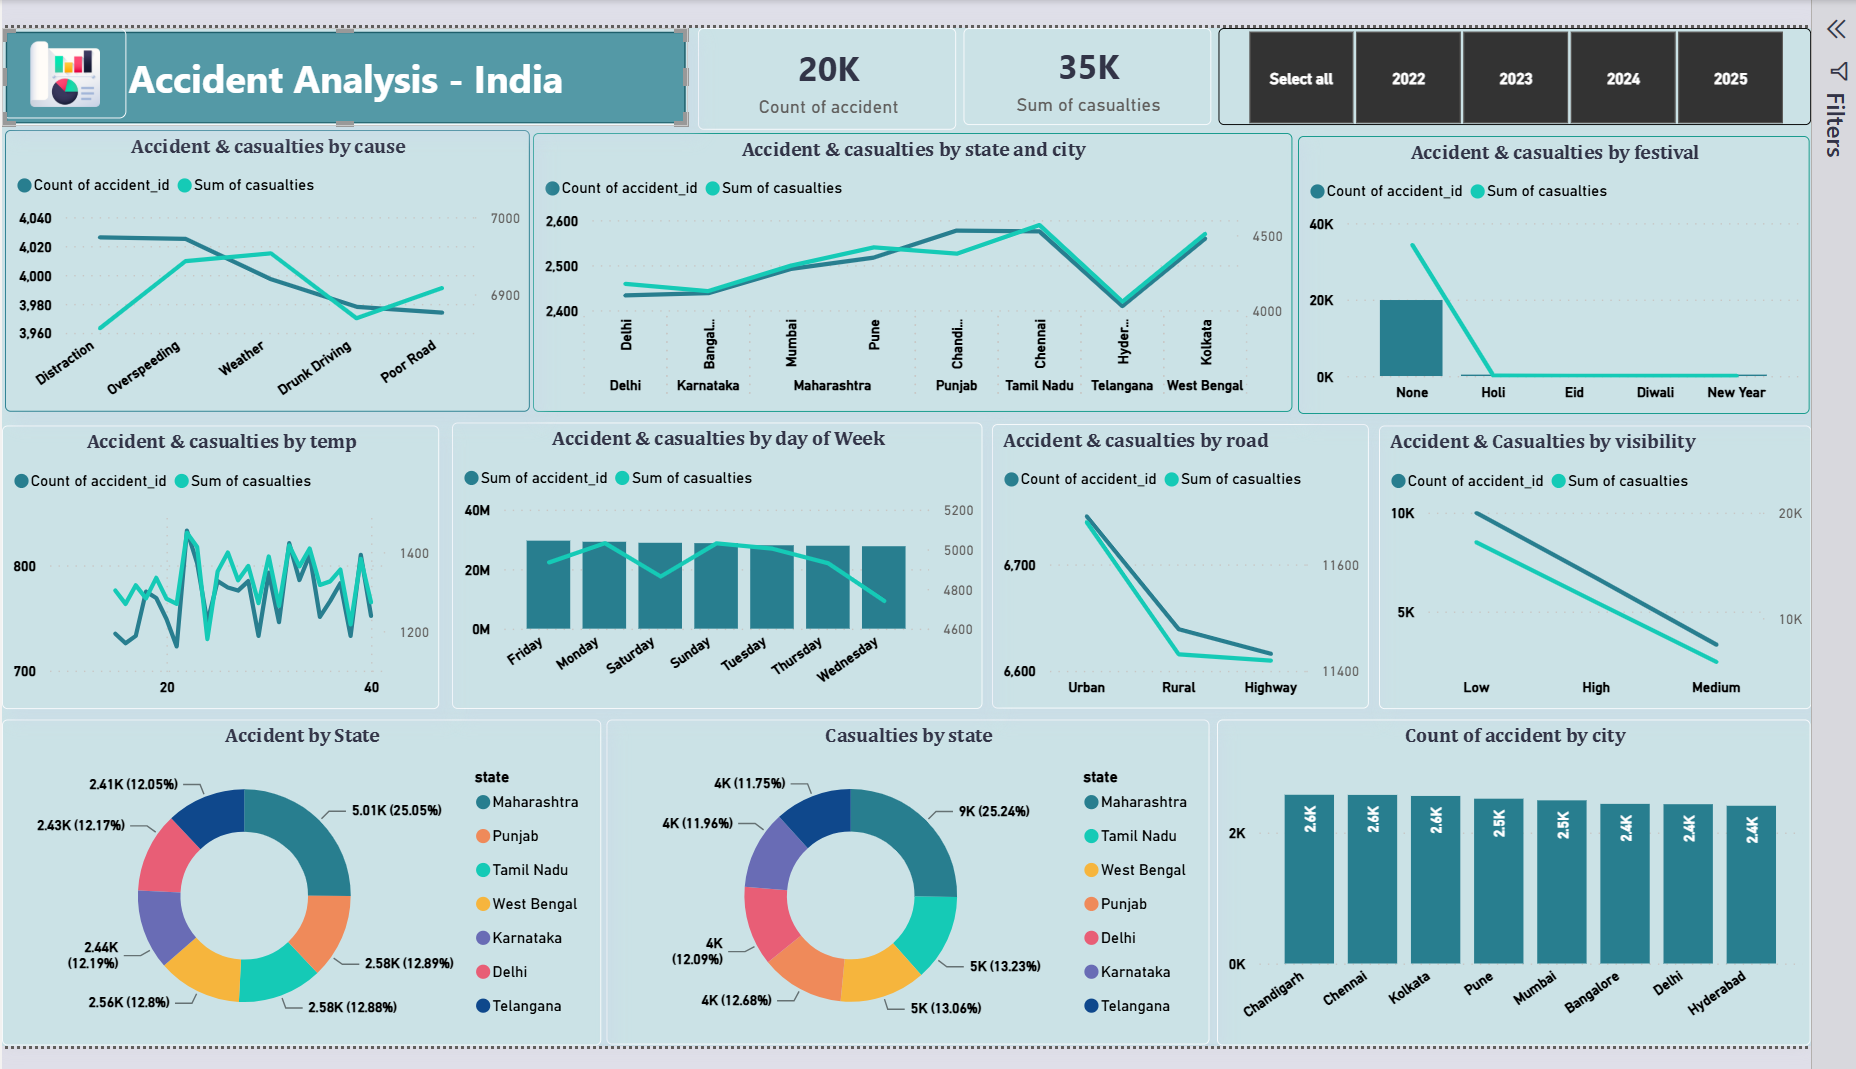

Layout of this report page (visuals, bound fields, positions):
{"tool":"powerbi","page":{"name":"DASHBOARD","canvas":[1280,720],"ordinal":0},"visuals":[{"type":"shape","box":[0,0,485,69],"z":0,"group":"g1"},{"type":"donutChart","title":"Casualties by state","fields":{"Category":["indian_roads_dataset.state"],"Y":["Sum(indian_roads_dataset.casualties)"]},"box":[427.7,489.3,426.7,230.3],"z":0},{"type":"image","box":[0,0,88.1,63.7],"z":1000,"group":"g1"},{"type":"card","fields":{"Values":["Sum(indian_roads_dataset.casualties)"]},"box":[679.8,0,175.1,68.8],"z":1000},{"type":"lineChart","title":"Accident & casualties by state and city","fields":{"Y":["CountNonNull(indian_roads_dataset.accident_id)"],"Y2":["Sum(indian_roads_dataset.casualties)"],"Category":["indian_roads_dataset.state","indian_roads_dataset.city"]},"box":[375.7,74.3,537,197.4],"z":2000},{"type":"slicer","fields":{"Values":["indian_roads_dataset.Year"]},"box":[860.8,0,419.2,69],"z":3000},{"type":"donutChart","title":"Accident by State","fields":{"Category":["indian_roads_dataset.state"],"Y":["CountNonNull(indian_roads_dataset.accident_id)"]},"box":[0,489.1,423.8,230.6],"z":4000},{"type":"card","fields":{"Values":["CountNonNull(indian_roads_dataset.accident_id)"]},"box":[493,0,183,72.2],"z":5000},{"type":"lineChart","title":"Accident & casualties by road","fields":{"Category":["indian_roads_dataset.road_type"],"Y":["CountNonNull(indian_roads_dataset.accident_id)"],"Y2":["Sum(indian_roads_dataset.casualties)"]},"box":[700.5,280.2,266.4,201.7],"z":6000},{"type":"lineClusteredColumnComboChart","title":"Accident & casualties by day of Week","fields":{"Category":["indian_roads_dataset.day_of_week"],"Y":["Sum(indian_roads_dataset.accident_id)"],"Y2":["Sum(indian_roads_dataset.casualties)"]},"box":[318.8,278.9,375.5,202.9],"z":7000},{"type":"lineChart","title":"Accident & casualties by temp ","fields":{"Category":["indian_roads_dataset.temperature"],"Y":["CountNonNull(indian_roads_dataset.accident_id)"],"Y2":["Sum(indian_roads_dataset.casualties)"]},"box":[0,281.4,309.1,200.5],"z":8000},{"type":"lineChart","title":"Accident & Casualties by visibility","fields":{"Category":["indian_roads_dataset.visibility"],"Y":["CountNonNull(indian_roads_dataset.accident_id)"],"Y2":["Sum(indian_roads_dataset.casualties)"]},"box":[974.3,281.3,305.7,200.6],"z":9000},{"type":"lineClusteredColumnComboChart","title":"Accident & casualties by festival","fields":{"Category":["indian_roads_dataset.festival"],"Y":["Count(indian_roads_dataset.accident_id)"],"Y2":["Sum(indian_roads_dataset.casualties)"]},"box":[916.5,76.1,362.3,196.8],"z":10000},{"type":"lineChart","title":"Accident & casualties by cause","fields":{"Category":["indian_roads_dataset.cause"],"Y":["Count(indian_roads_dataset.accident_id)"],"Y2":["Sum(indian_roads_dataset.casualties)"]},"box":[2.1,72.2,371.5,199.5],"z":11000},{"type":"group","id":"g1","title":"Group 1","box":[0,0,485,69],"z":12000},{"type":"columnChart","title":"Count of accident by city","fields":{"Category":["indian_roads_dataset.city"],"Y":["CountNonNull(indian_roads_dataset.accident_id)"]},"box":[859.8,489.1,420.2,230.6],"z":13000}]}

Visuals, with their boxes in screenshot pixels (x1, y1, x2, y2), scaled from the page's 1280x720 canvas onto the 1856x1069 screenshot:
shape: [0, 0, 703, 102]
"Casualties by state" donutChart: [620, 726, 1239, 1068]
image: [0, 0, 128, 95]
card - Sum(indian_roads_dataset.casualties): [986, 0, 1240, 102]
"Accident & casualties by state and city" lineChart: [545, 110, 1323, 403]
slicer - indian_roads_dataset.Year: [1248, 0, 1855, 102]
"Accident by State" donutChart: [0, 726, 615, 1068]
card - CountNonNull(indian_roads_dataset.accident_id): [715, 0, 980, 107]
"Accident & casualties by road" lineChart: [1016, 416, 1402, 715]
"Accident & casualties by day of Week" lineClusteredColumnComboChart: [462, 414, 1007, 715]
"Accident & casualties by temp " lineChart: [0, 418, 448, 715]
"Accident & Casualties by visibility" lineChart: [1413, 418, 1855, 715]
"Accident & casualties by festival" lineClusteredColumnComboChart: [1329, 113, 1854, 405]
"Accident & casualties by cause" lineChart: [3, 107, 542, 403]
"Group 1" group: [0, 0, 703, 102]
"Count of accident by city" columnChart: [1247, 726, 1855, 1068]
